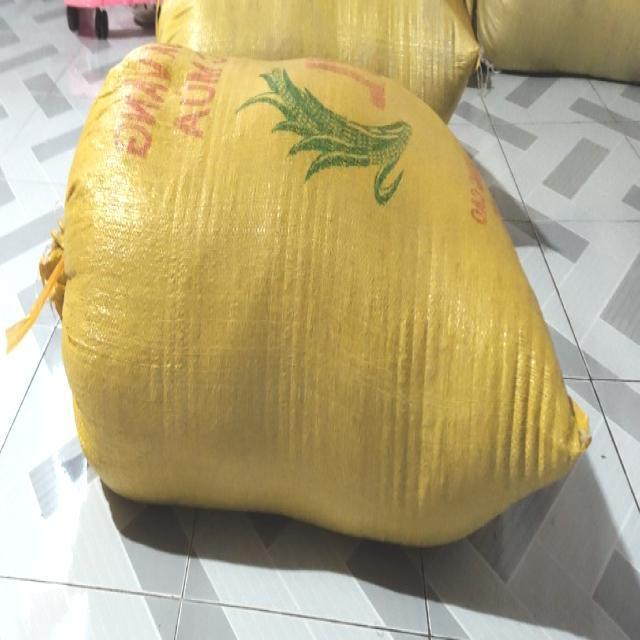gunny_bag: (39, 36, 590, 544)
